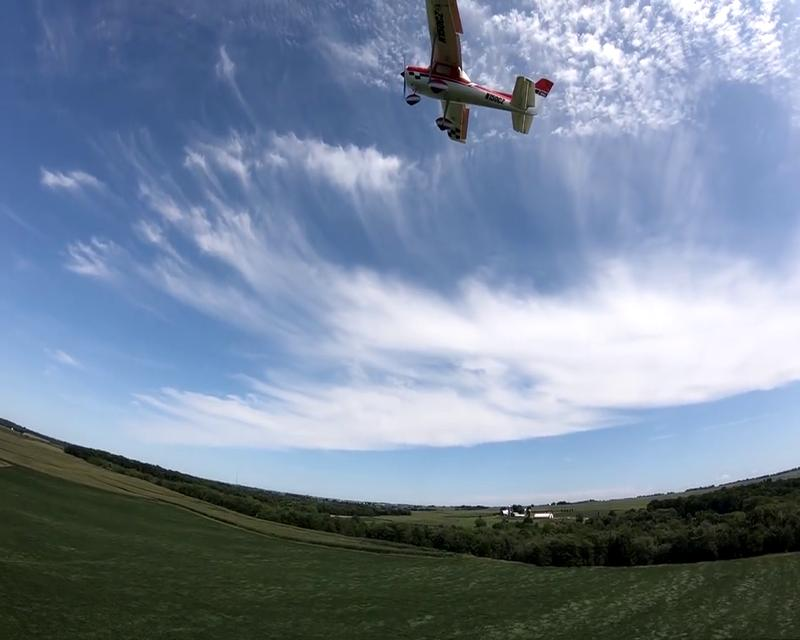UAV: (398, 0, 554, 144)
